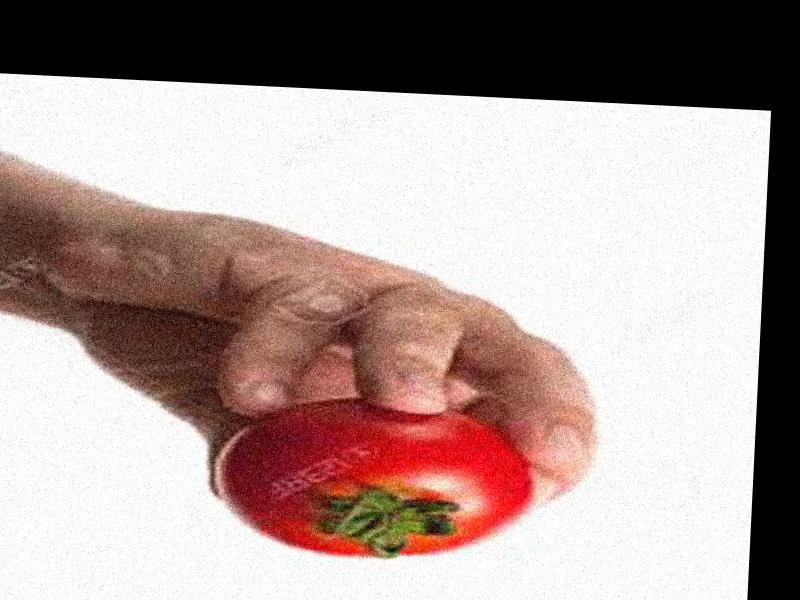Tomato: (215, 394, 537, 566)
